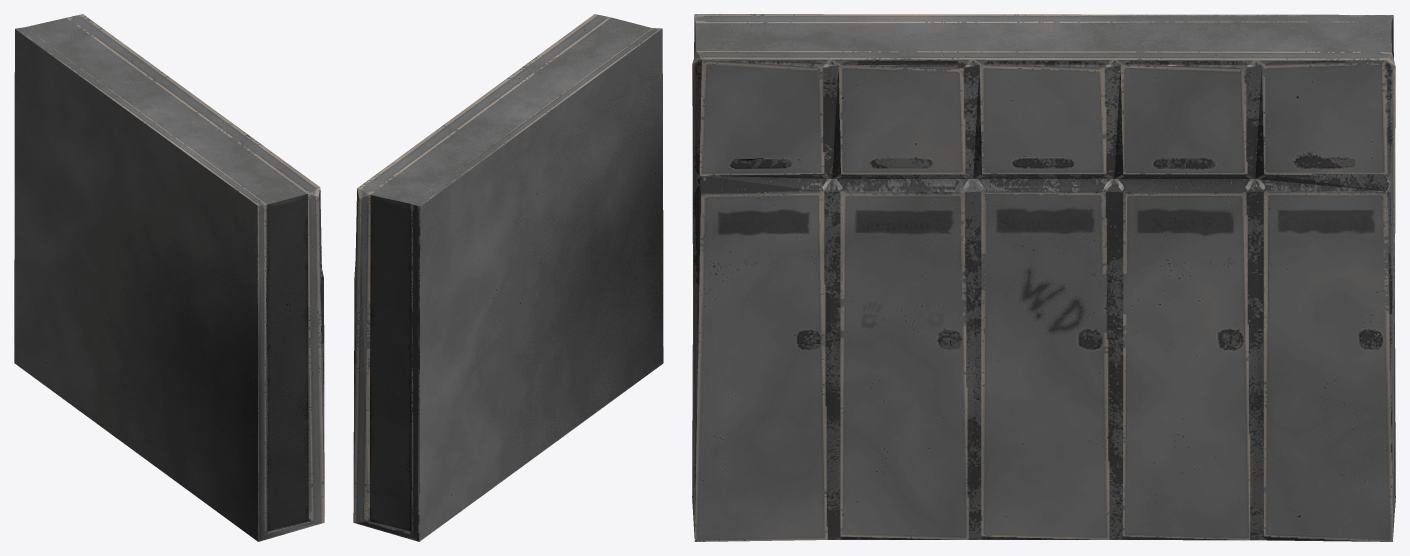
File: Locker.fbx
The picture shows the model from 3 angles, left to right: view 1: azimuth 30°, elevation 25°; view 2: azimuth 150°, elevation 25°; view 3: azimuth 270°, elevation 25°; orthographic projection. The views are drawn at different scales.
Visible parts, largest first — view 1: locker; view 2: locker; view 3: locker.
Part boxes in pixels (left/top/right/bottom): locker: left=14, top=14, right=324, bottom=541; locker: left=353, top=14, right=663, bottom=541; locker: left=692, top=14, right=1395, bottom=541.
Bounding box in the file's own units: 51.02 × 238 × 314.
Materials: 1 (1 with a texture image).
